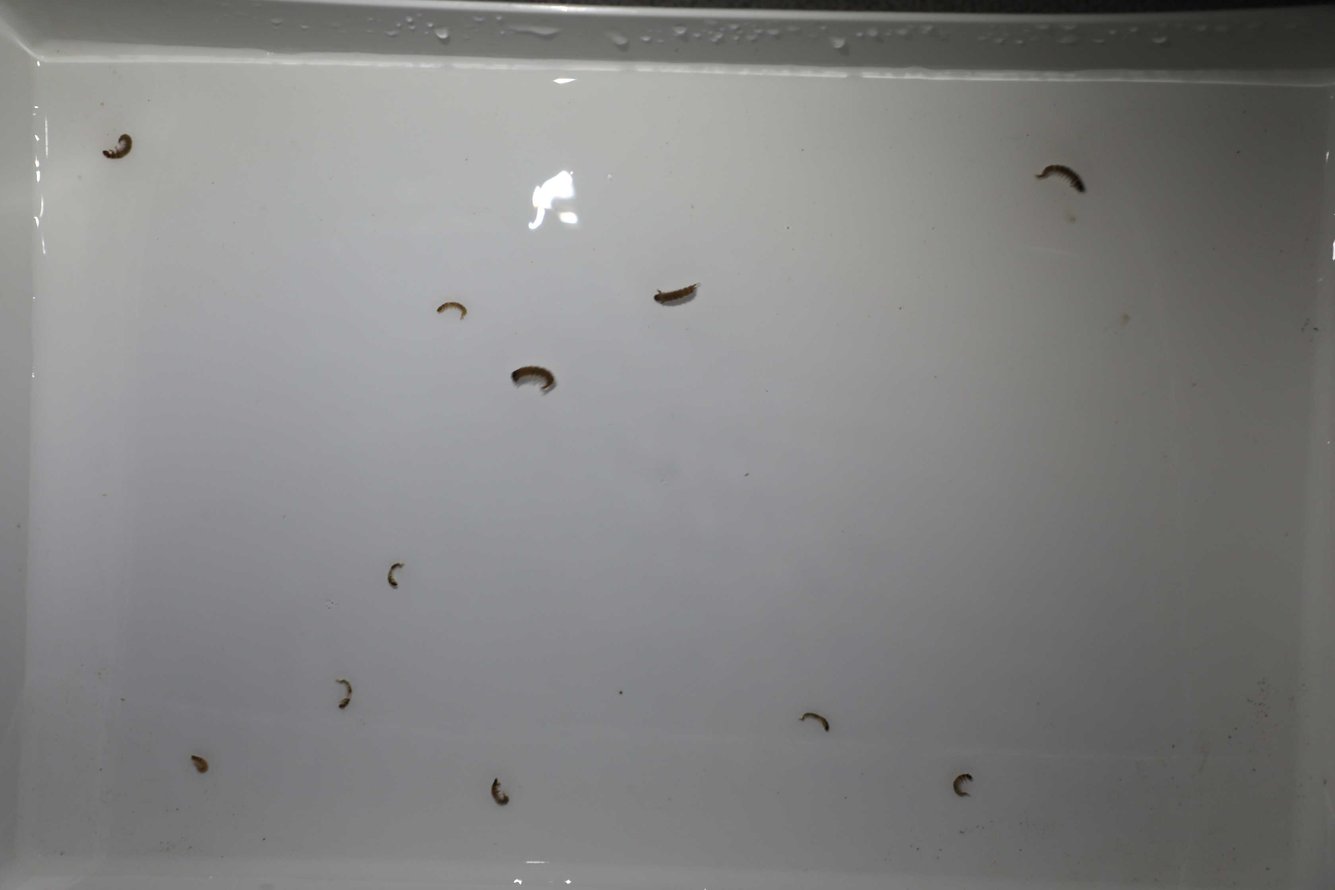Cadisfly: (96, 125, 144, 163), (652, 272, 700, 310), (512, 358, 556, 395), (1037, 163, 1086, 196), (799, 698, 836, 740), (182, 741, 215, 781), (327, 674, 360, 713), (946, 766, 982, 799), (484, 774, 514, 811), (429, 292, 467, 320), (381, 555, 408, 593)
